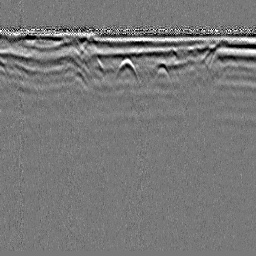cavity: (112, 57, 141, 83)
